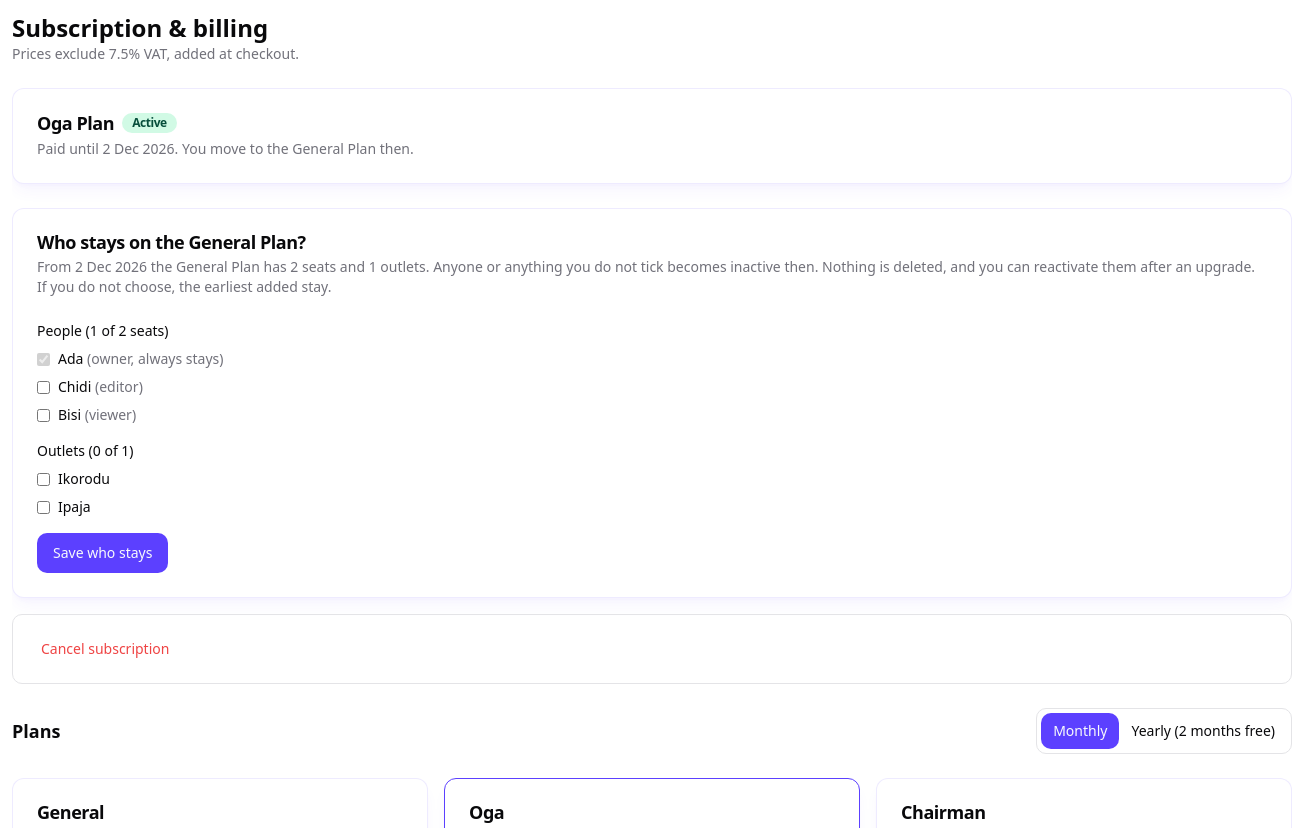
Test case: before a downgrade, the owner chooses who stays; owners always stay and seats are counted (SUB-06)
Expected: the heading "Who stays on the General Plan?" is shown, 37,230 -> 306,254
Expected: the checkbox labelled "Ada (owner, always stays)" is checked, 37,352 -> 50,366
Click the checkbox labelled "Chidi (editor)".
click(44, 387)  # box 37,380 -> 50,394
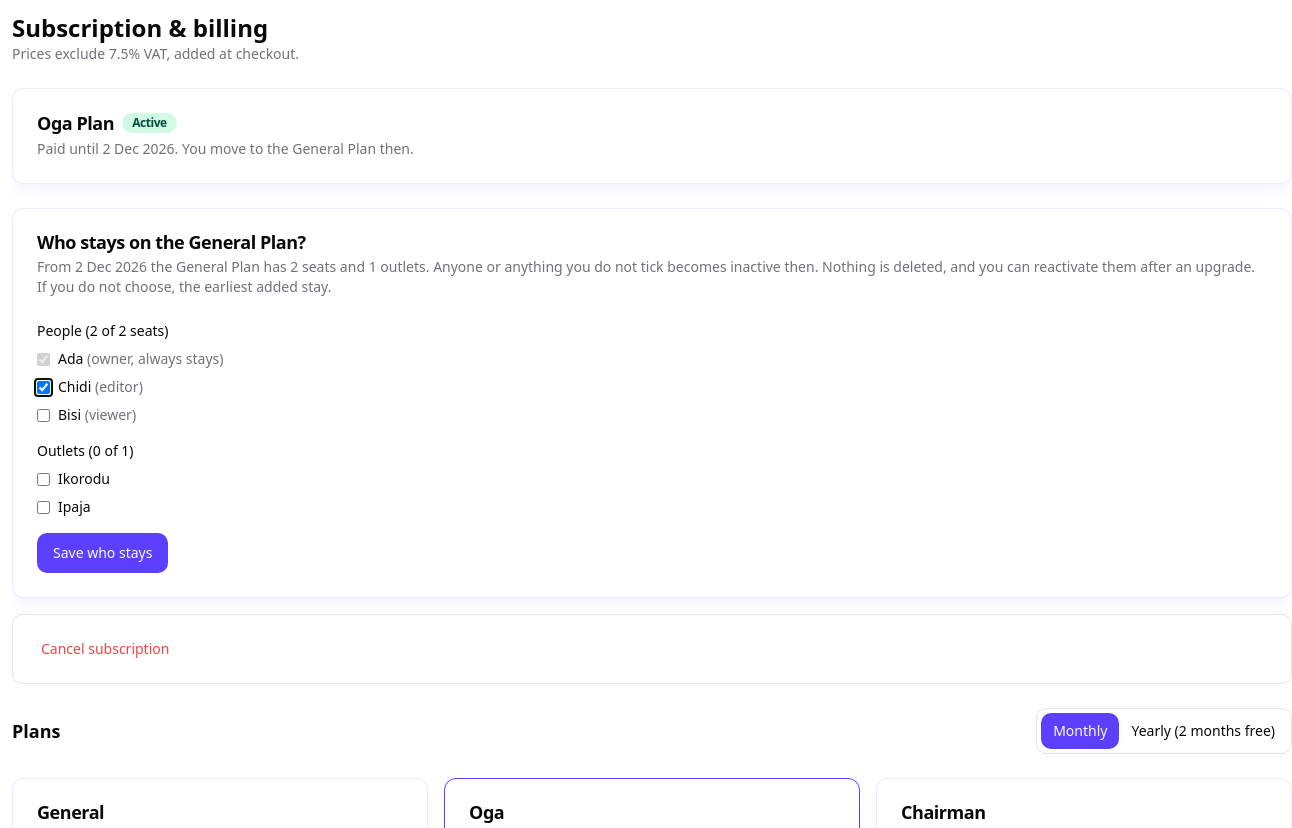
Click the checkbox labelled "Bisi (viewer)".
click(44, 415)  # box 37,408 -> 50,422
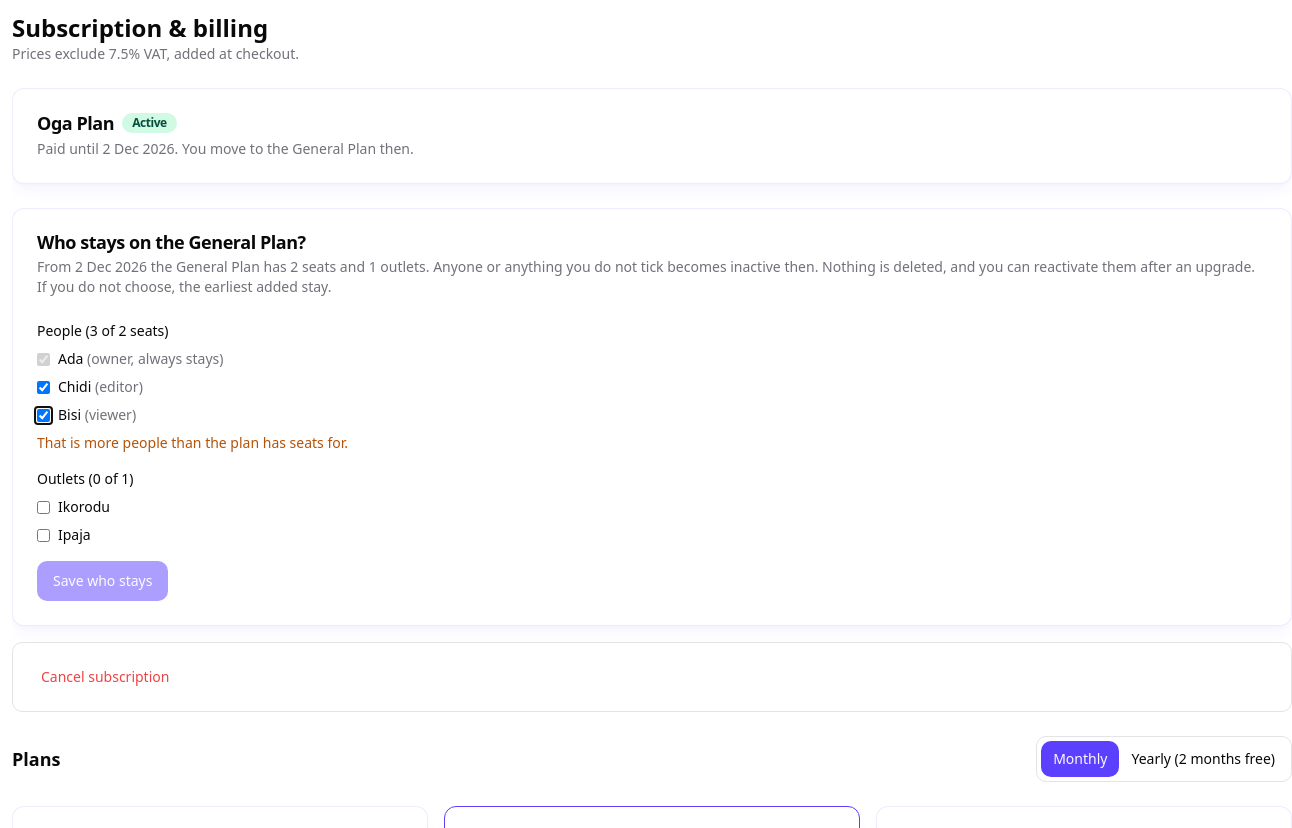
Now the text "That is more people than the plan has seats for." is shown, box 37,433 -> 348,452
Now the button "Save who stays" is disabled, box 37,561 -> 168,601
Click the checkbox labelled "Bisi (viewer)".
click(44, 415)  # box 37,408 -> 50,422
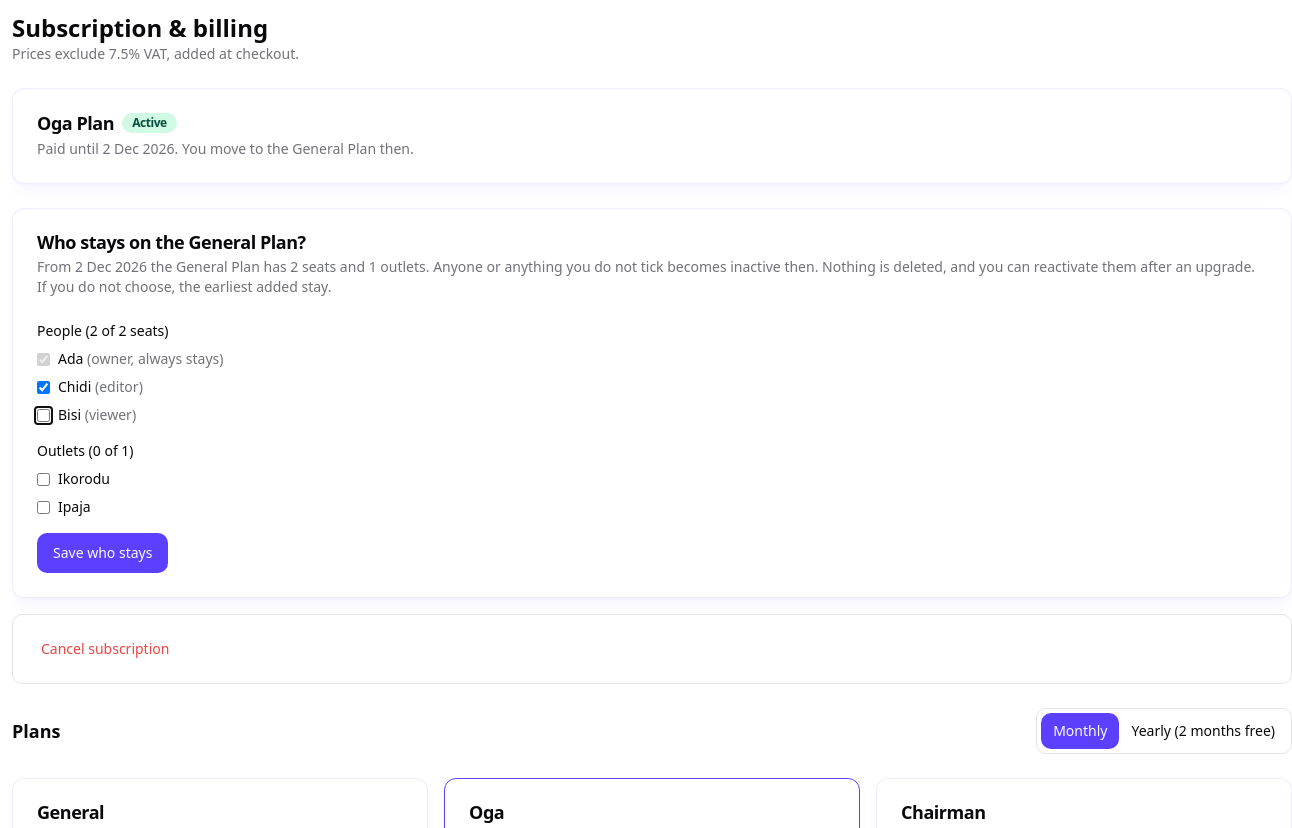
Click the checkbox labelled "Ipaja".
click(44, 507)  # box 37,500 -> 50,514
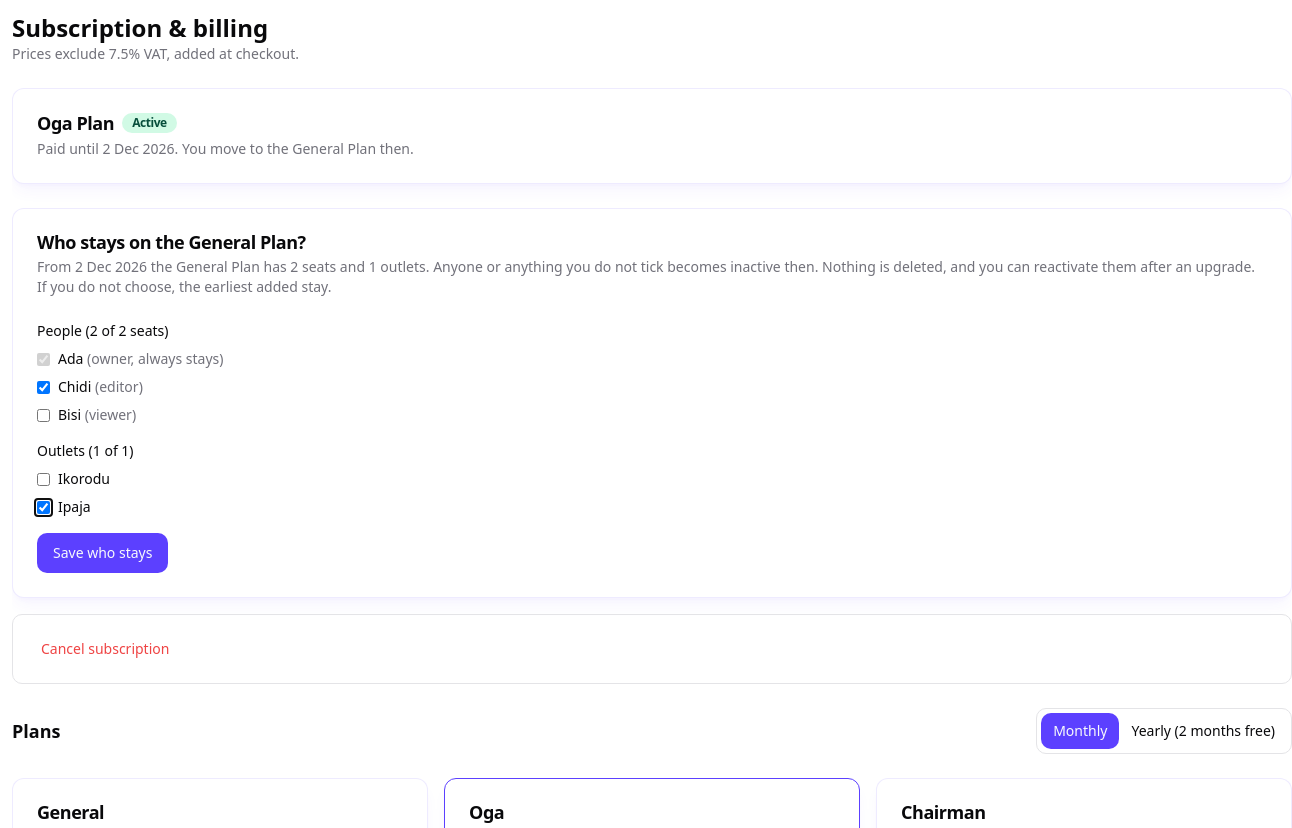
Click the button "Save who stays".
click(103, 553)  # box 37,533 -> 168,573
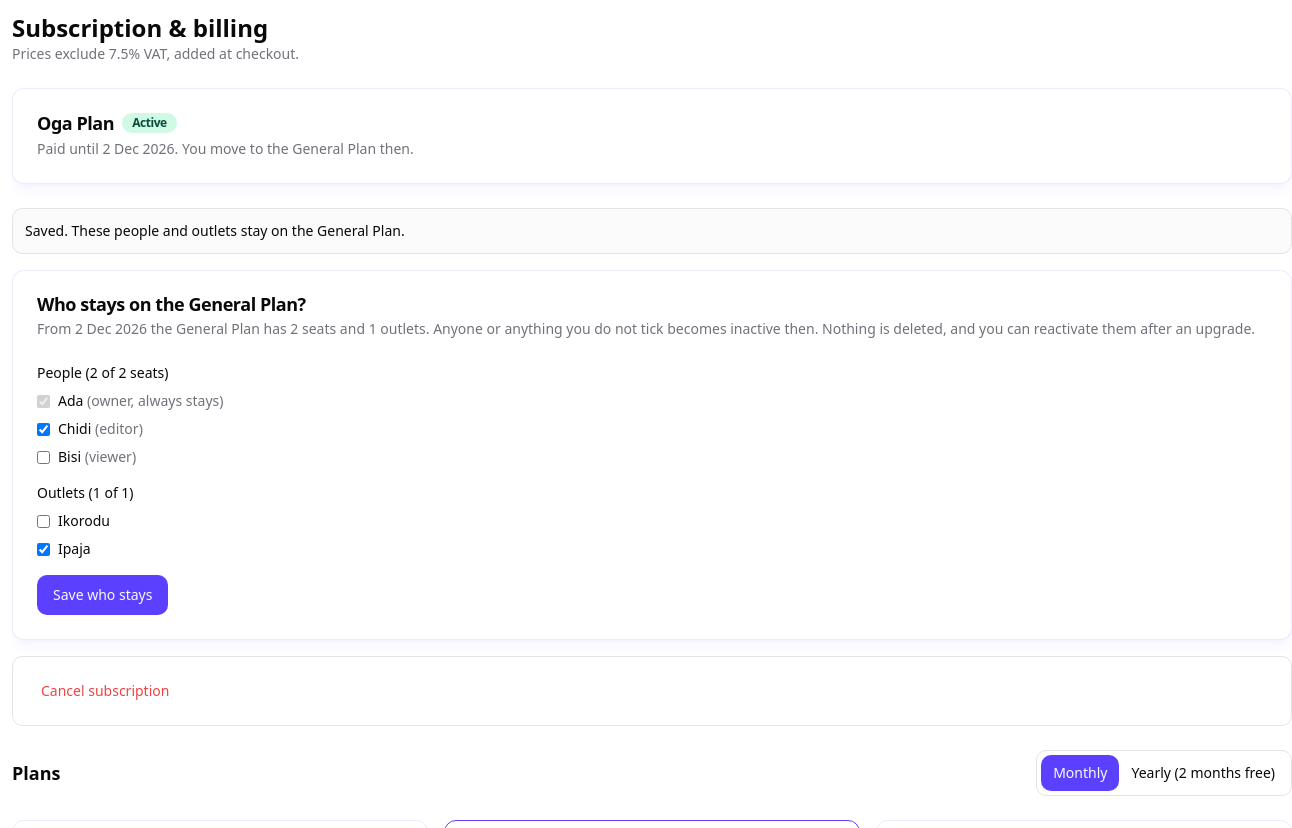
Now the text "Saved. These people and outlets stay on the General Plan." is shown, box 12,208 -> 1291,254
